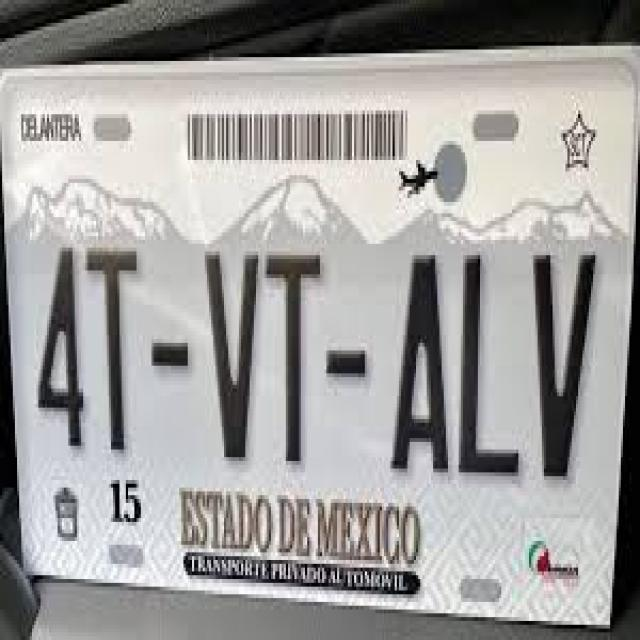placa: (16, 214, 622, 506)
